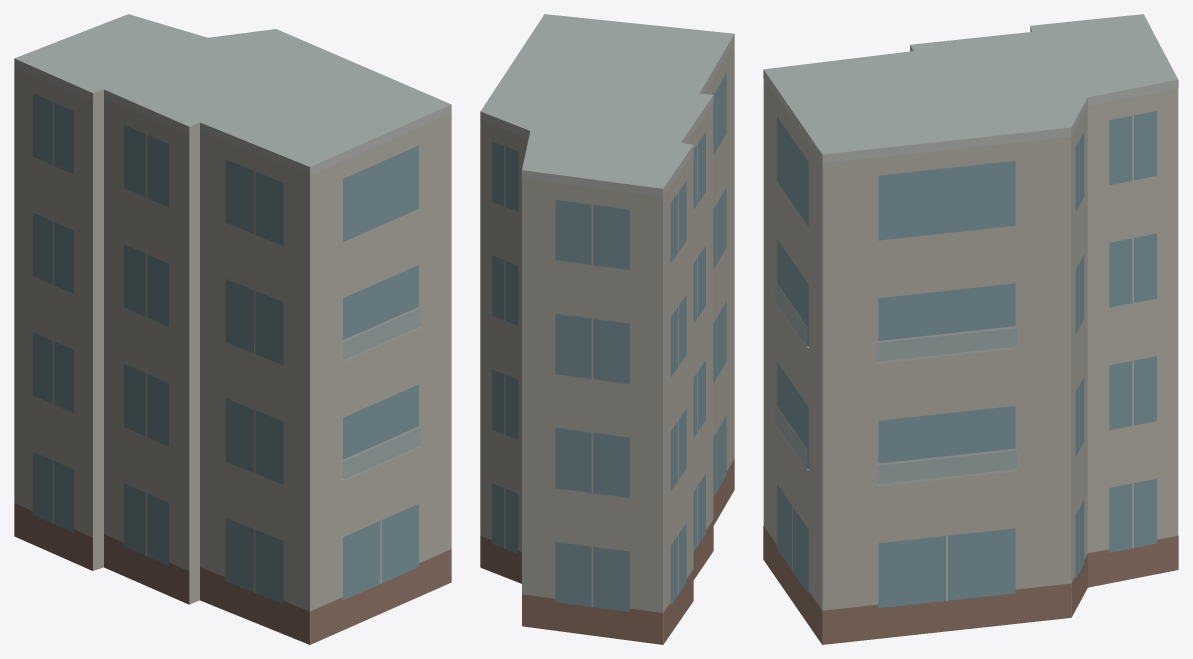
Rendered from survey-upis-33028442.glb.
3 renders of one model, left to right at view 1: azimuth 30°, elevation 25°; view 2: azimuth 150°, elevation 25°; view 3: azimuth 270°, elevation 25°, orthographic. The views are drawn at different scales.
Visible parts, largest first — view 1: survey-upis-33028442.tmp; view 2: survey-upis-33028442.tmp; view 3: survey-upis-33028442.tmp.
Part boxes in pixels (x1,y1,x2,y2): survey-upis-33028442.tmp: (14, 14, 451, 644); survey-upis-33028442.tmp: (480, 14, 734, 644); survey-upis-33028442.tmp: (763, 14, 1178, 644).
Size of the model in its own units: 8.34 by 13.55 by 10.4.
